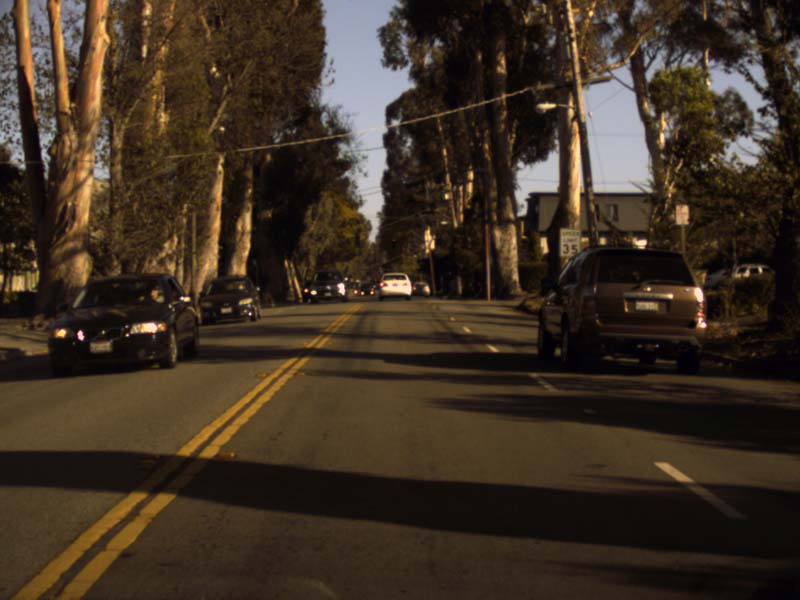Red: (390, 238, 396, 246)
